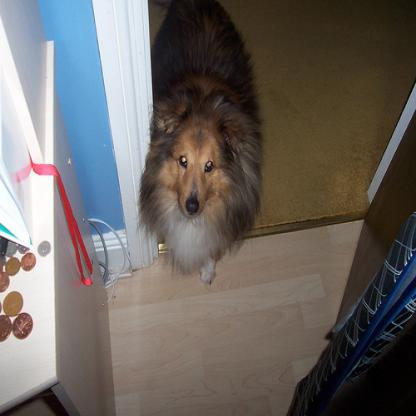Shetland_sheepdog: (132, 0, 268, 288)
